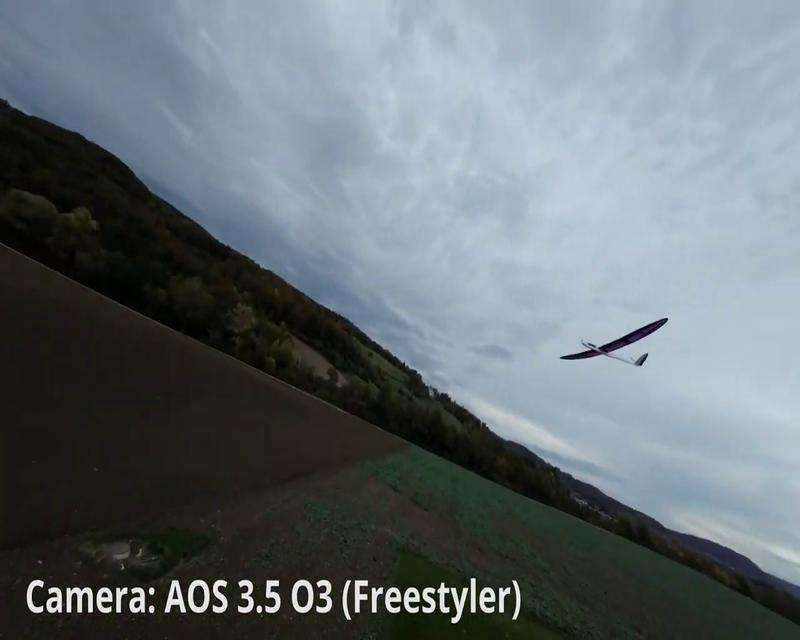UAV: (559, 318, 669, 367)
